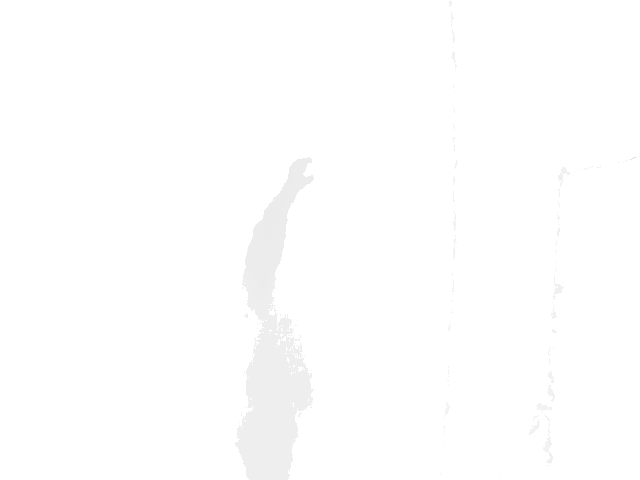hand: (285, 156, 316, 190)
person: (233, 156, 316, 480)
